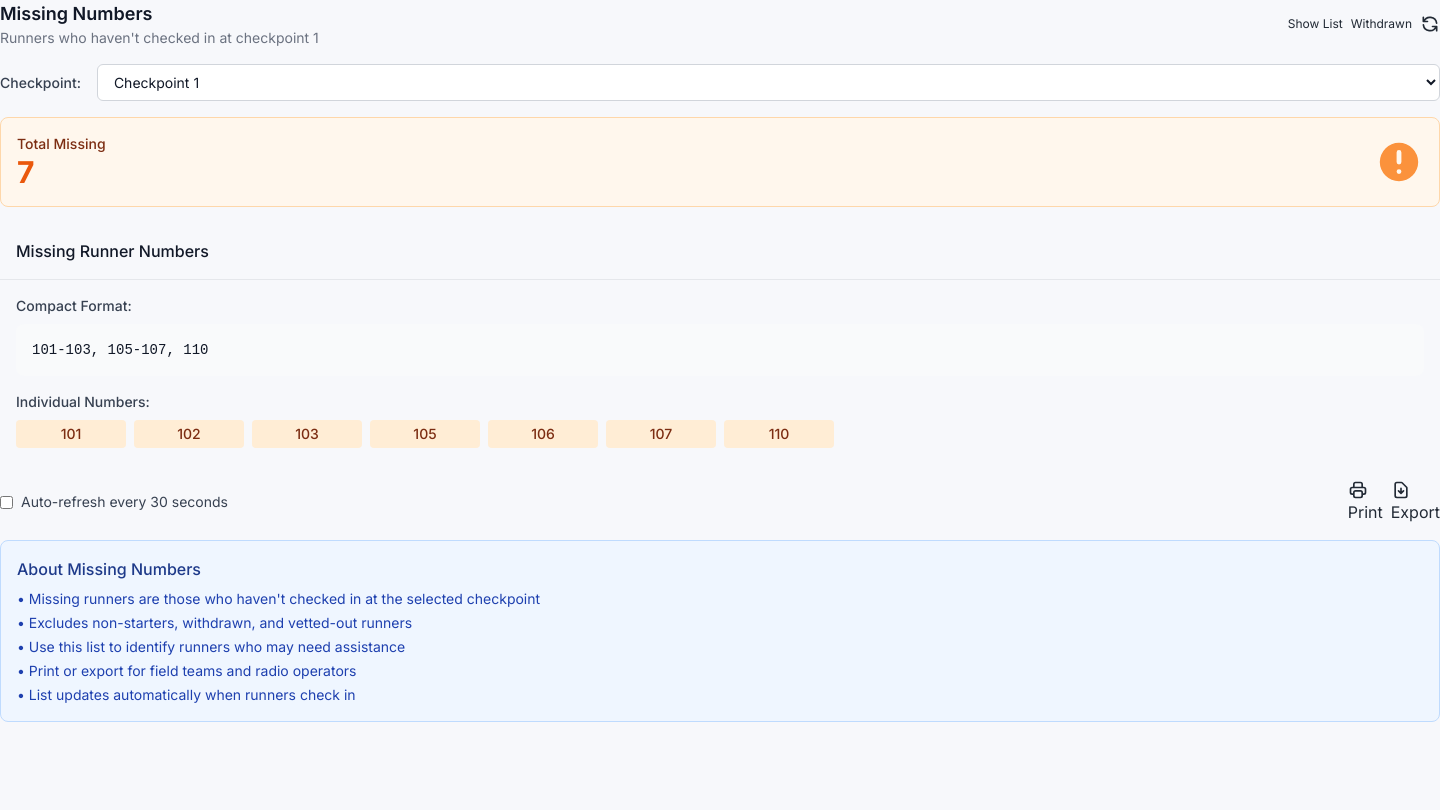
Test: MissingNumbersList › opens withdrawn modal and shows withdrawn runners
Click the button "Withdrawn": [1381, 24] box [1351,16,1412,32]
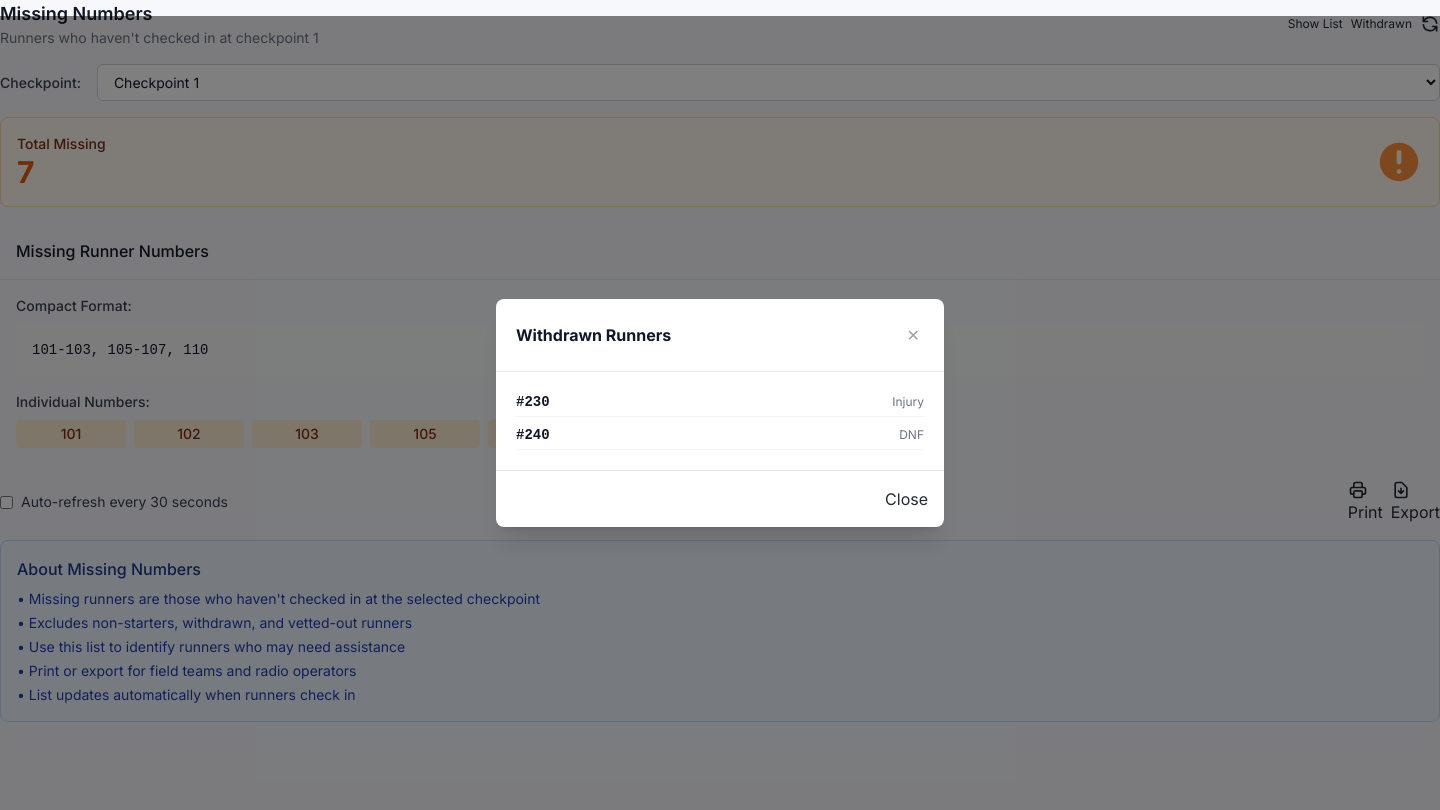
Expected: the heading "Withdrawn Runners" is shown, [516,323,671,347]
Expected: the text "#230" is shown, [516,392,550,412]
Expected: the text "#240" is shown, [516,425,550,445]
